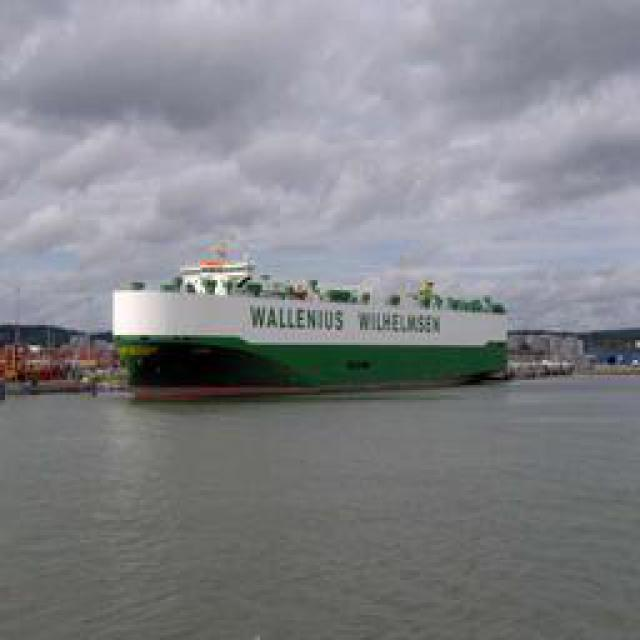Ship: (116, 239, 519, 399)
